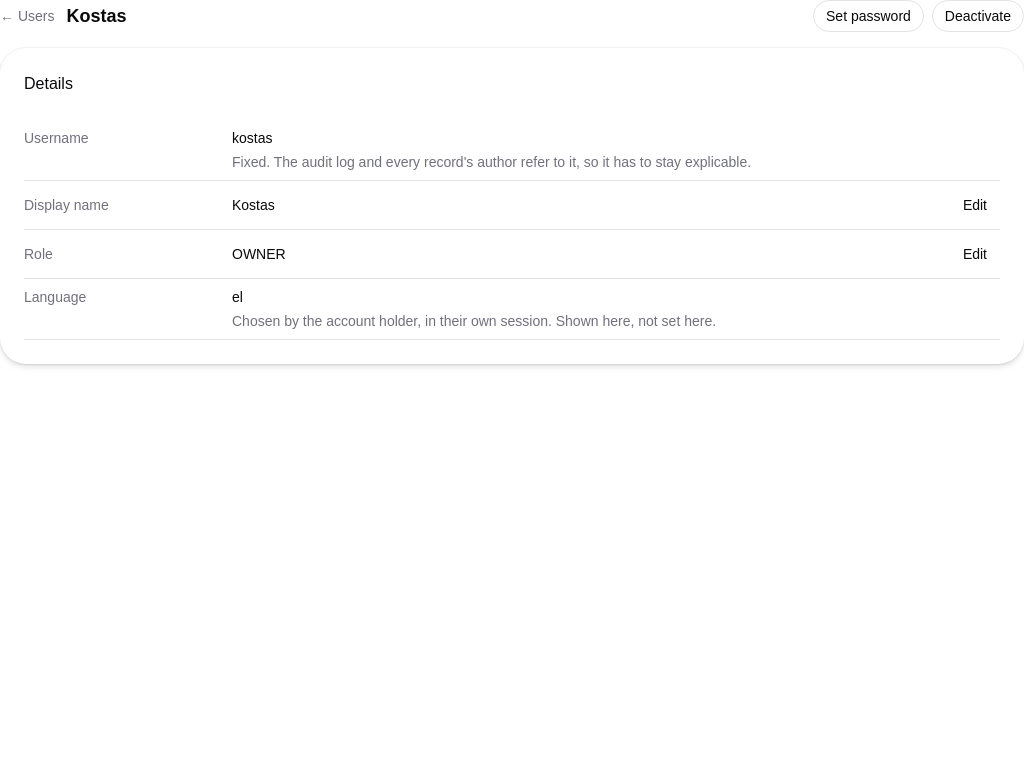
Scenario: handing over a password › shows the refusal and leaves the password on screen
Expected: the heading "Kostas" is shown, [66, 2, 126, 30]
Click the button "Set password". click: (868, 16)
box: [813, 0, 924, 32]
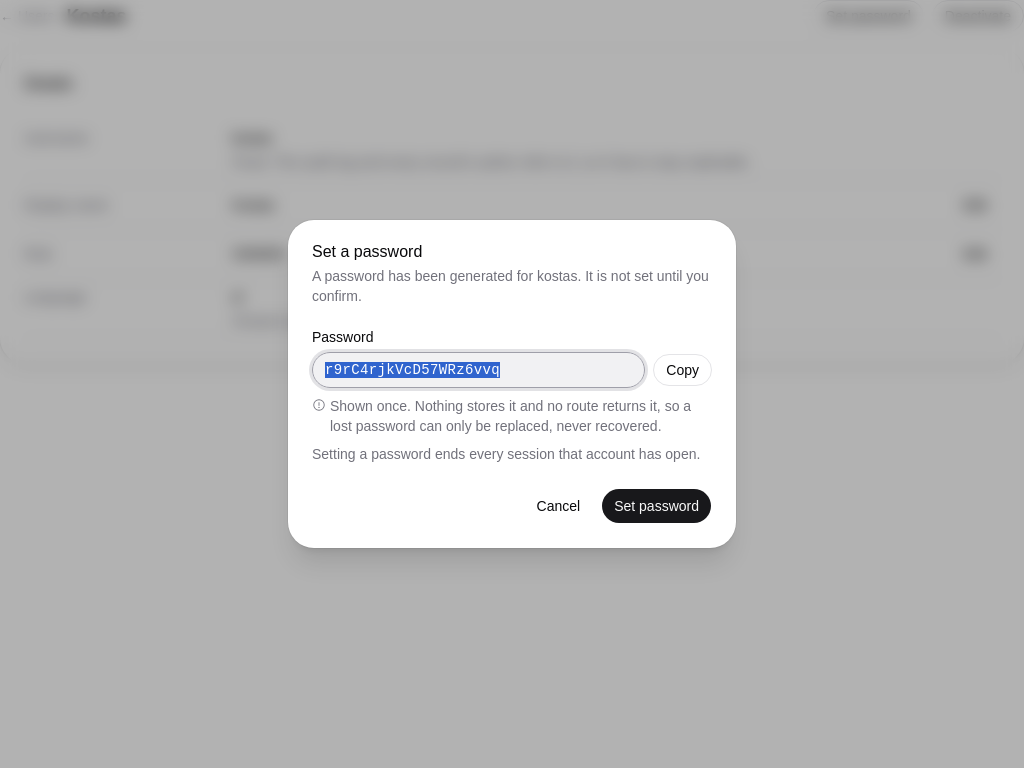
Click the button "Set password". click: (657, 506)
box: [601, 488, 712, 524]
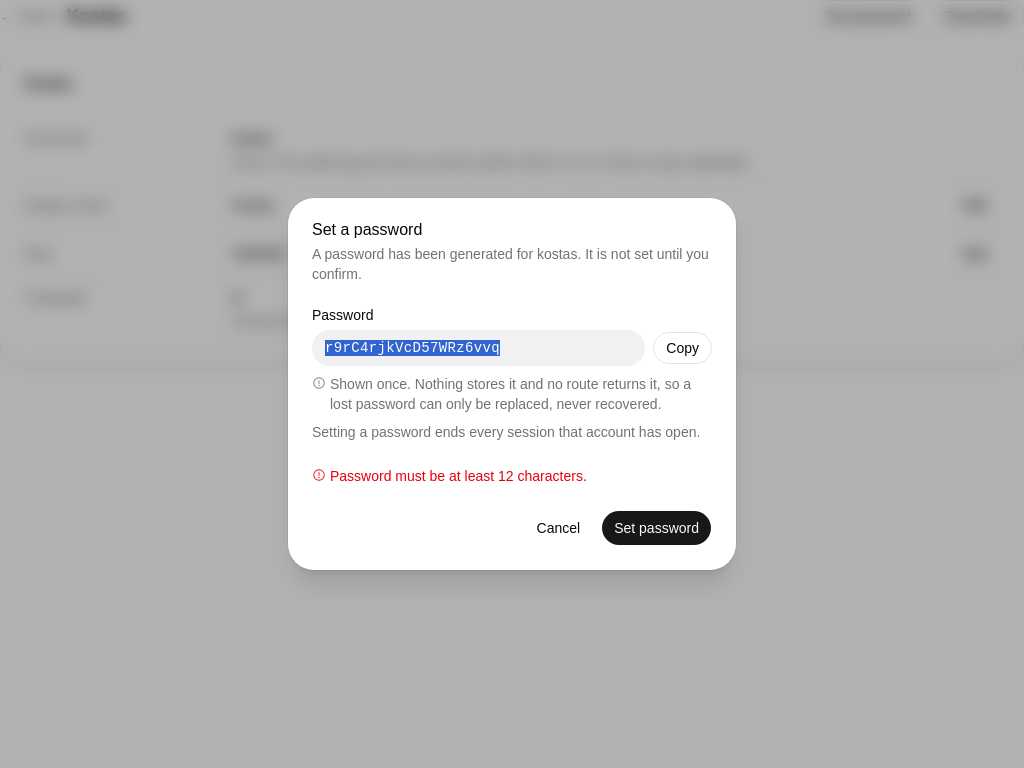
Result: the message shows "at least 12 characters" at [330, 468, 587, 484]
